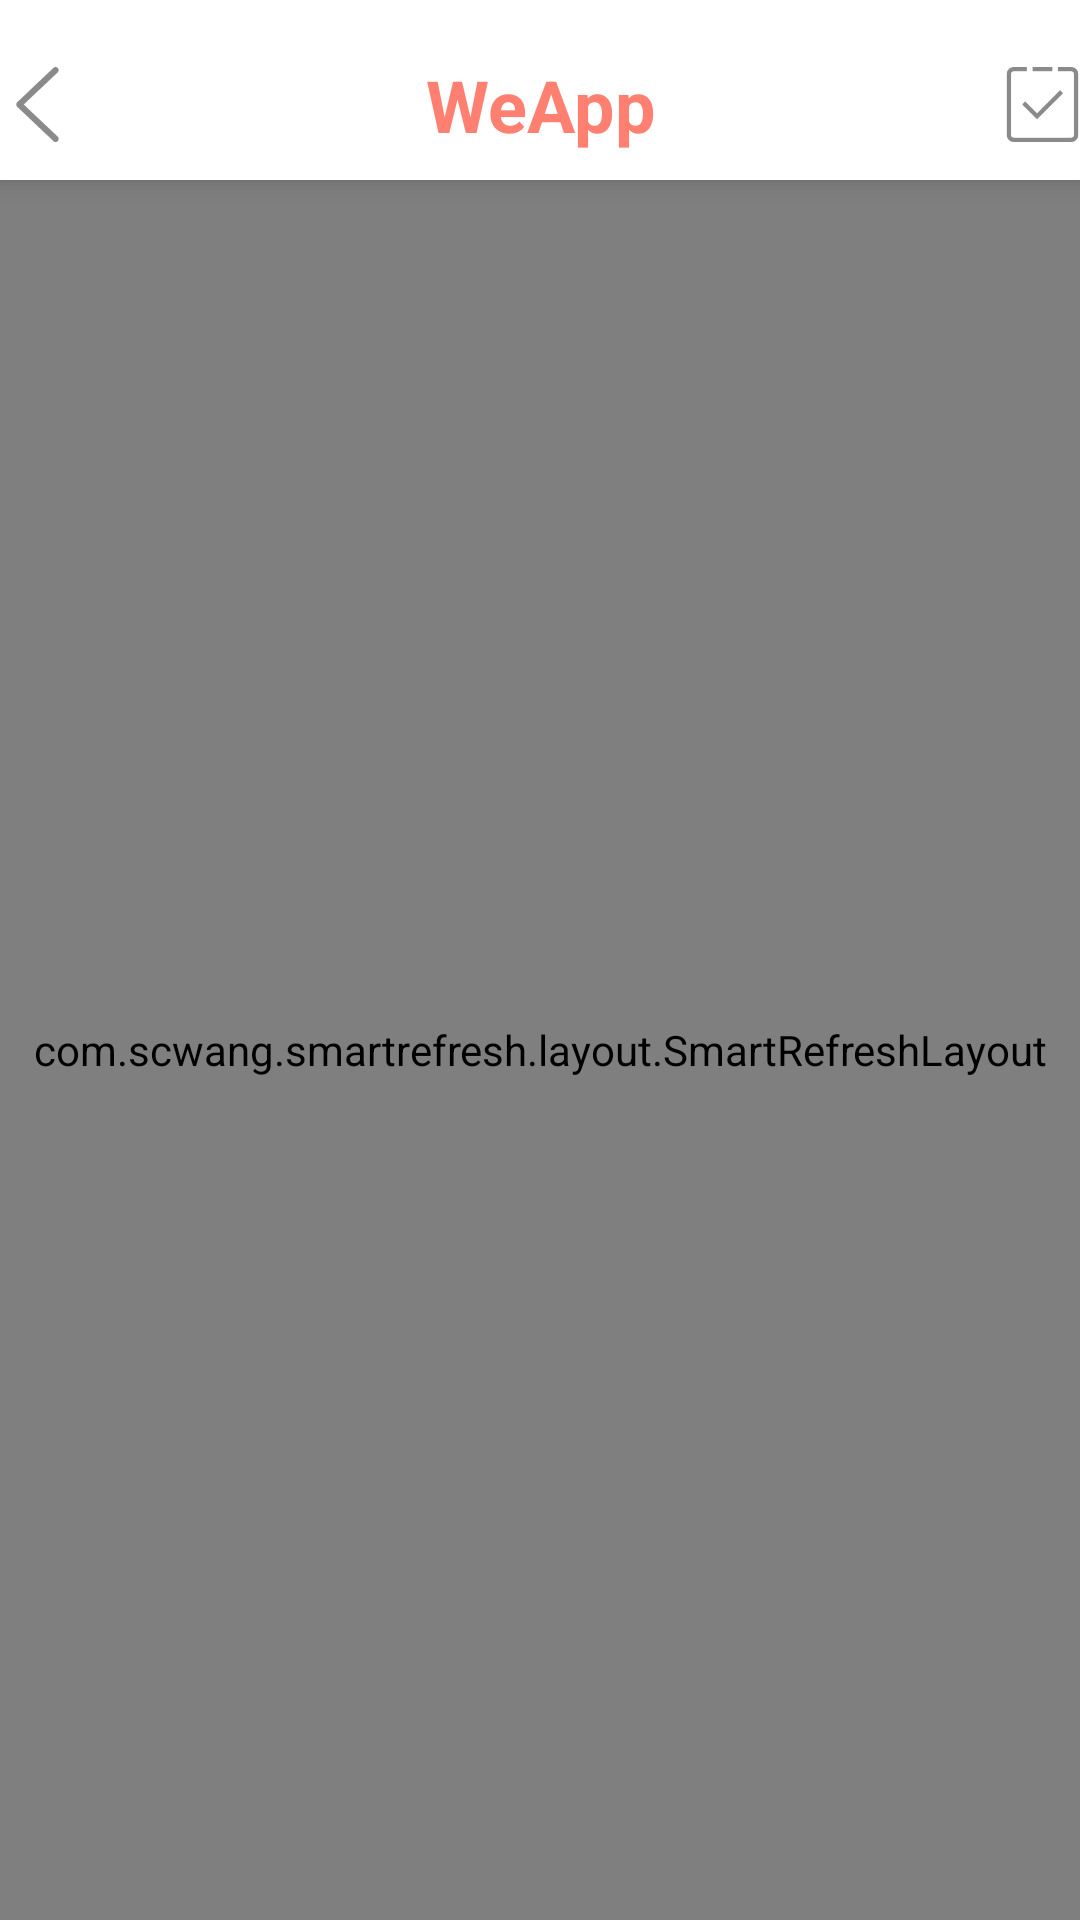

Locate icon controls on the screen. Image size 1080 × 1920, boxes as rect(x1, y1, x2, y2).
arrow: rect(16, 67, 59, 142)
submit: rect(1007, 67, 1078, 142)
